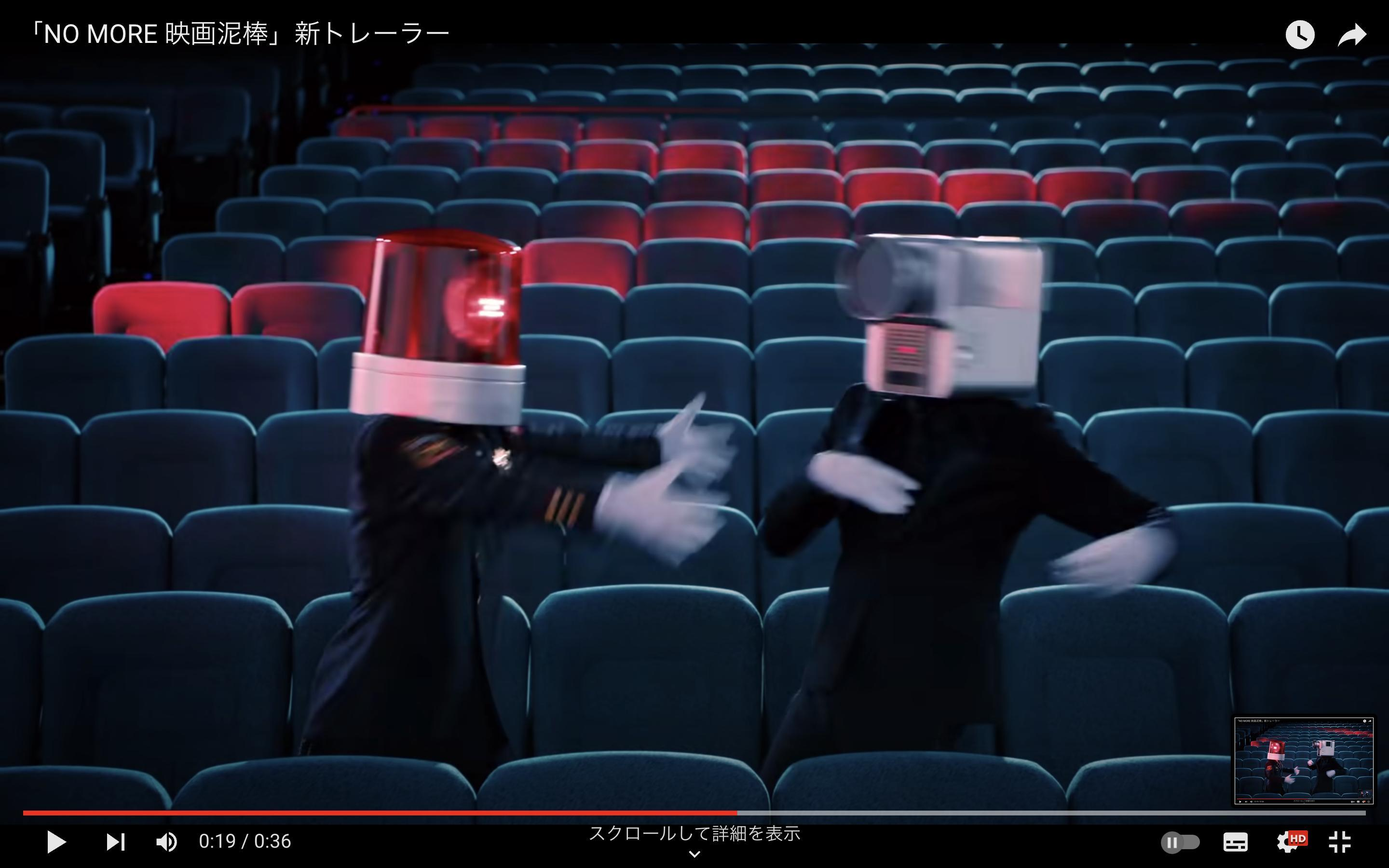no more kid: (836, 230, 1072, 407)
